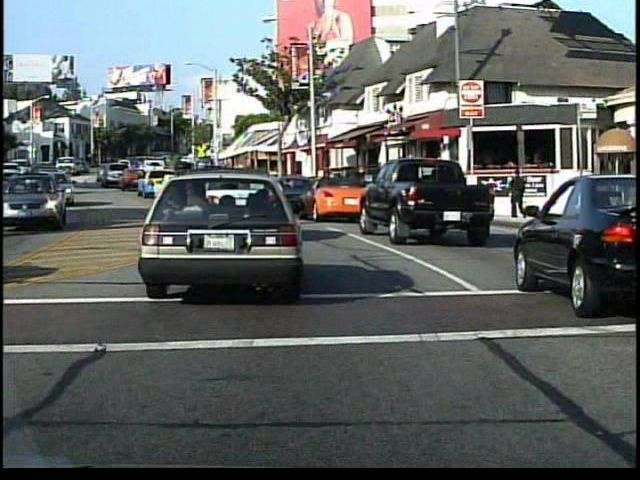person: (509, 167, 530, 226)
